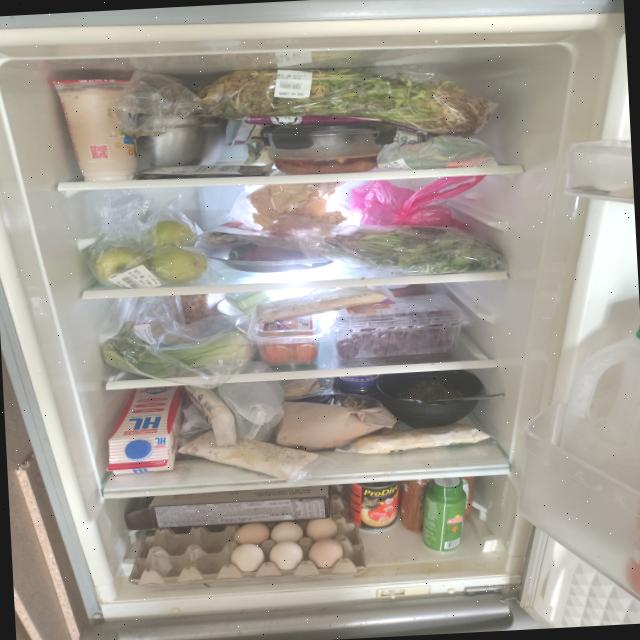apple: (92, 218, 210, 291)
egg: (125, 516, 368, 588)
grape: (334, 310, 456, 360)
leafy_greens: (194, 57, 496, 146), (324, 223, 504, 279)
pakchoy: (100, 318, 253, 382)
tempeh: (177, 425, 321, 487), (254, 286, 388, 324), (350, 422, 490, 456), (184, 384, 238, 446)
unknown_bag: (348, 174, 489, 236), (218, 380, 286, 444)
